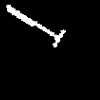half_double_crochet: (6, 5, 65, 46)
